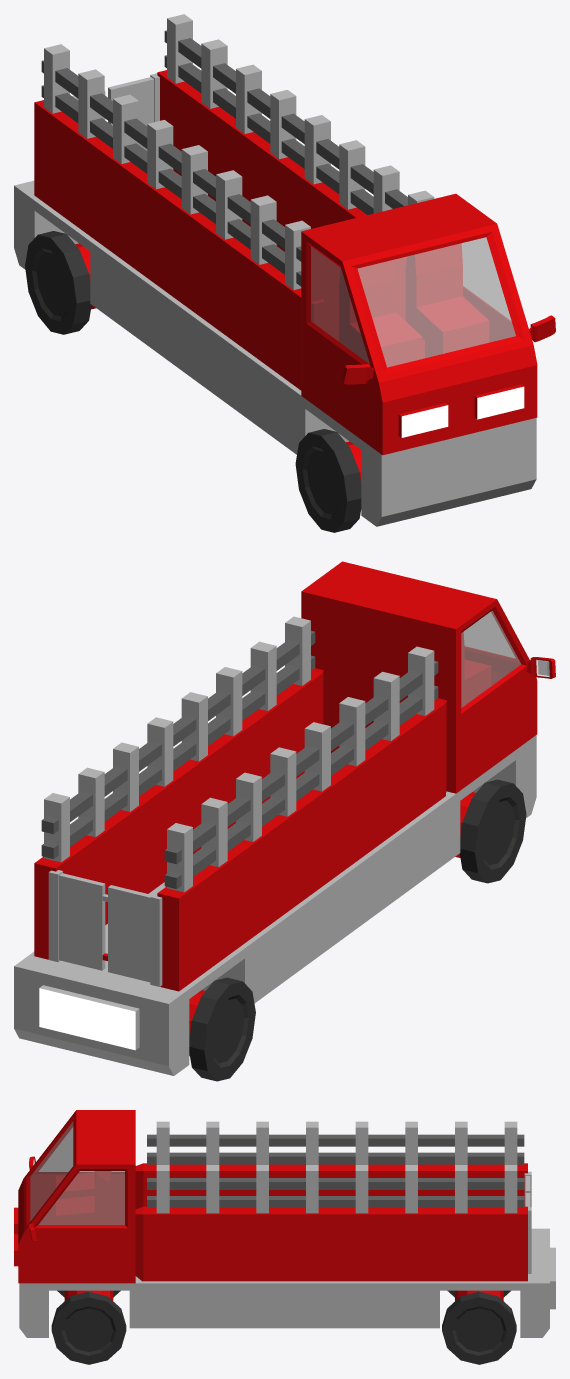
Rendered from cars19.glb.
3 views of the same model, one above another, from view 1: azimuth 30°, elevation 25°; view 2: azimuth 150°, elevation 25°; view 3: azimuth 270°, elevation 25° (orthographic). The views are drawn at different scales.
Visible parts, largest first — view 1: Car19, Car19Tire1, Car19Tire2; view 2: Car19, Car19Tire2, Car19Tire1; view 3: Car19, Car19Tire1, Car19Tire2.
Part boxes in pixels (x1,y1,x2,y2): Car19: (14, 14, 555, 526); Car19Tire1: (295, 429, 361, 532); Car19Tire2: (25, 231, 95, 334); Car19: (14, 561, 555, 1075); Car19Tire2: (189, 977, 255, 1081); Car19Tire1: (455, 779, 526, 883); Car19: (14, 1110, 555, 1337); Car19Tire1: (51, 1290, 126, 1364); Car19Tire2: (442, 1290, 516, 1364).
Bounding box in the file's own units: 2.86 × 3.5 × 8.77.
